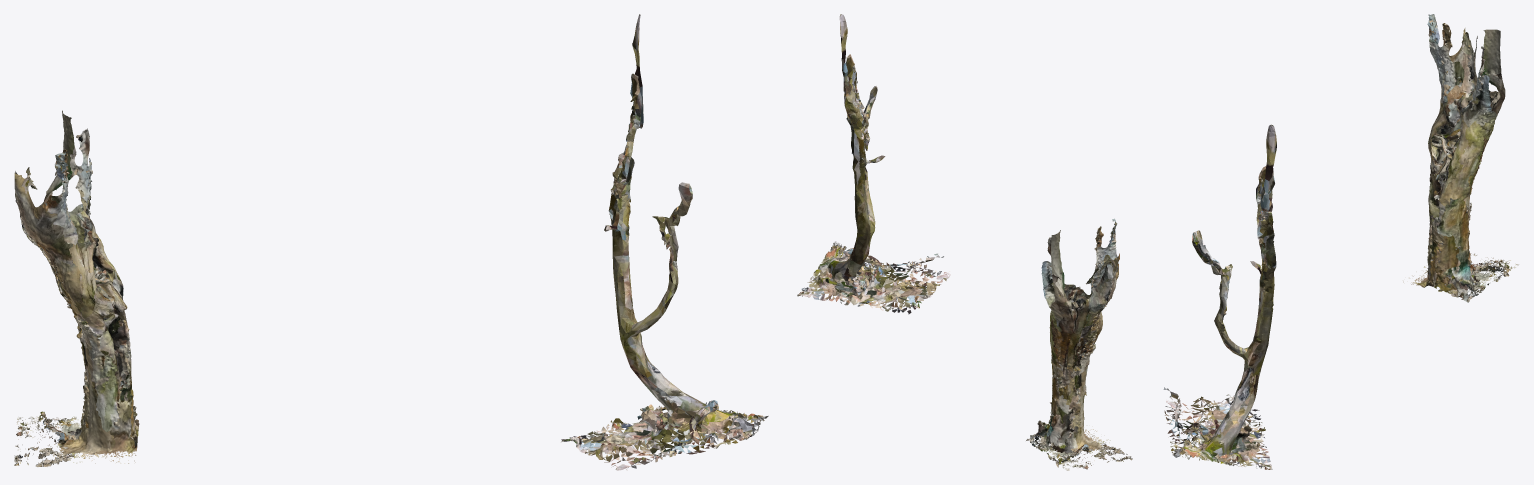
The picture shows the model from 3 angles, left to right: view 1: azimuth 30°, elevation 25°; view 2: azimuth 150°, elevation 25°; view 3: azimuth 270°, elevation 25°; orthographic projection. The views are drawn at different scales.
Parts seen in each view (by area): view 1: Object, textured; view 2: Object, textured; view 3: Object, textured.
Part boxes in pixels (x1=…): Object: x1=14, y1=110, x2=139, y2=466; textured: x1=561, y1=14, x2=768, y2=470; Object: x1=1026, y1=218, x2=1132, y2=470; textured: x1=797, y1=14, x2=950, y2=314; Object: x1=1403, y1=14, x2=1518, y2=302; textured: x1=1163, y1=124, x2=1276, y2=469.
Size of the model in its own units: 6.06 by 4.06 by 4.02.
2 materials, 2 textured.
